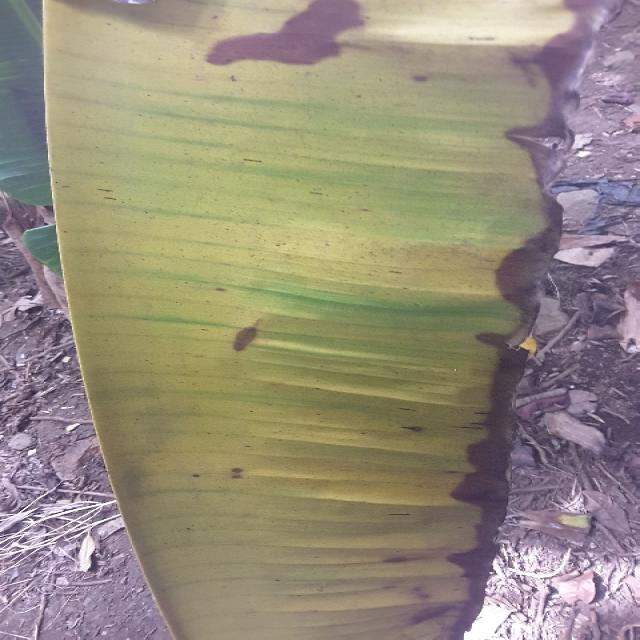Cordana: (33, 0, 576, 640)
